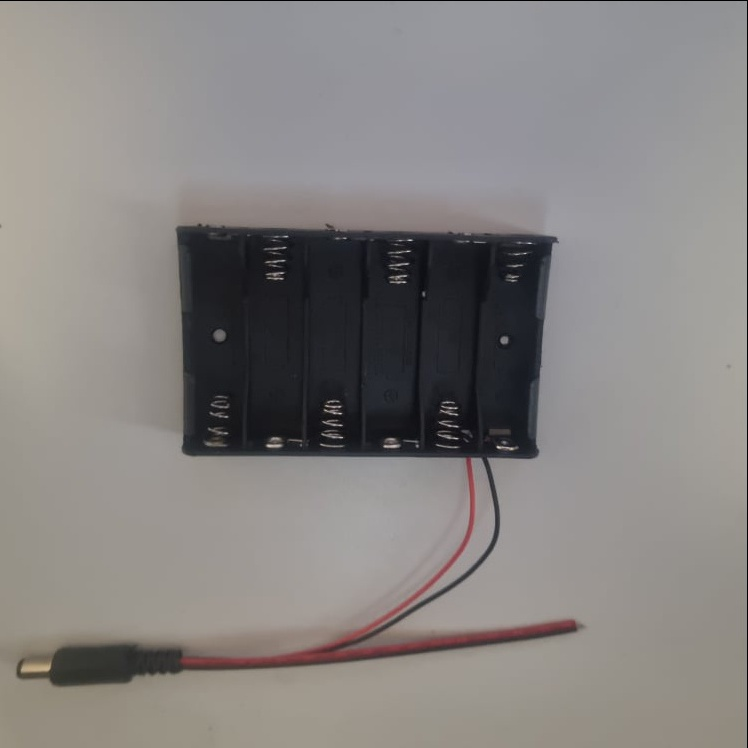BATTERY BOX: (175, 222, 560, 458)
